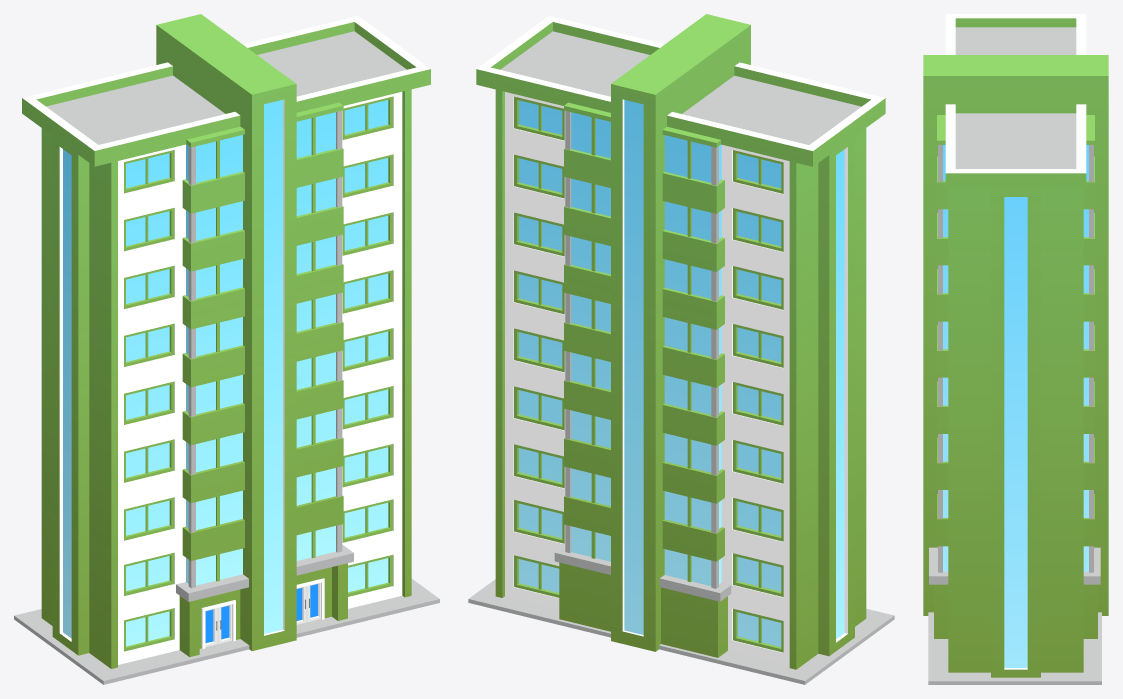
The model's file is Building_Living_54.glb.
The picture shows the model from 3 angles, left to right: view 1: azimuth 30°, elevation 25°; view 2: azimuth 150°, elevation 25°; view 3: azimuth 270°, elevation 25°; orthographic projection. The views are drawn at different scales.
Visible parts, largest first — view 1: Building_Living_54; view 2: Building_Living_54; view 3: Building_Living_54.
Boxes of the visible parts, box(x1,y1,x2,y2) form: Building_Living_54: box(14, 14, 439, 684); Building_Living_54: box(468, 14, 894, 684); Building_Living_54: box(923, 14, 1108, 684).
Bounding box in the file's own units: 20.15 × 31.86 × 9.91.
Materials: 1 (1 with a texture image).
